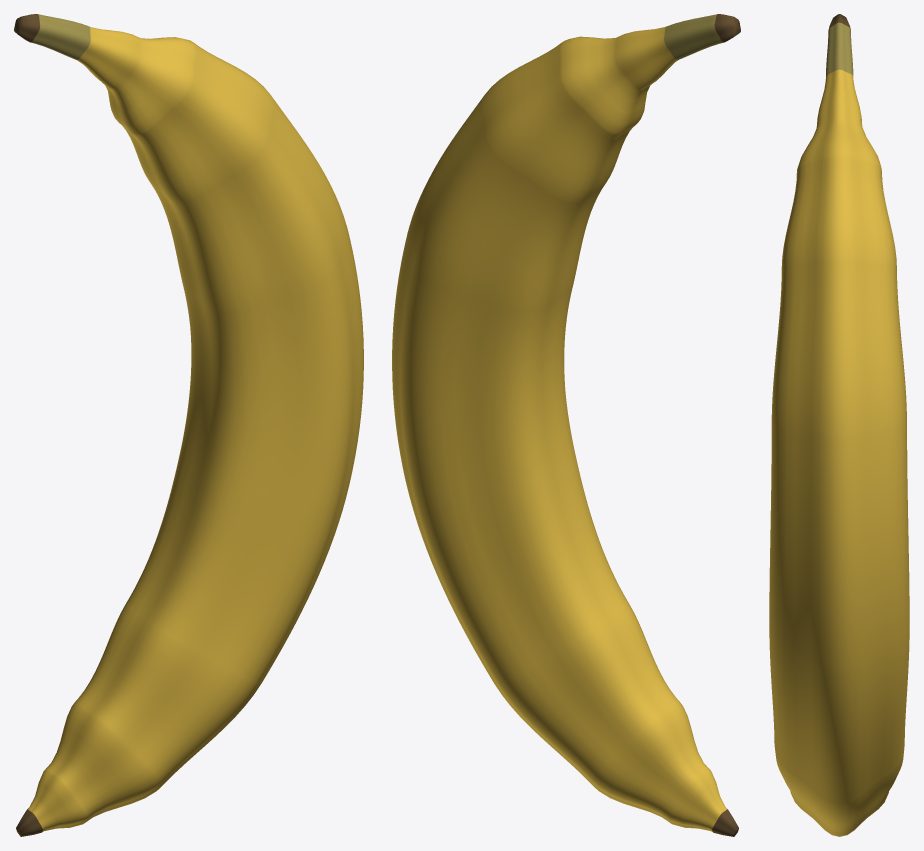
The model's file is A-NEW-20261027-BANANA-001_LOD0_R1.fbx.
3 views of the same model, side by side, from view 1: azimuth 30°, elevation 25°; view 2: azimuth 150°, elevation 25°; view 3: azimuth 270°, elevation 25° (orthographic). The views are drawn at different scales.
Visible parts, largest first — view 1: continuous original banana peel body and ends; view 2: continuous original banana peel body and ends; view 3: continuous original banana peel body and ends.
Part boxes in pixels (box(x1,y1,x2,y2)): continuous original banana peel body and ends: box(14, 14, 363, 836); continuous original banana peel body and ends: box(392, 14, 740, 836); continuous original banana peel body and ends: box(769, 14, 909, 836).
Size of the model in its own units: 12.41 by 28.32 by 4.63.
